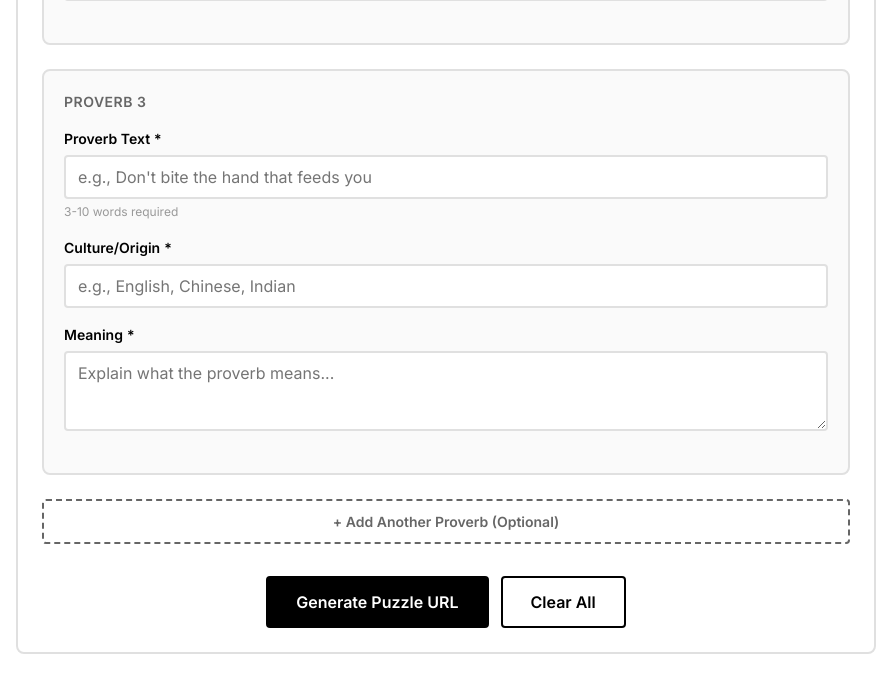
Scenario: PuzzleBuilder › allows removing the fourth proverb
(page scrolled)
Click the button "+ Add Another Proverb (Optional)" at (446, 521), box 42,499 -> 850,544
(page scrolled)
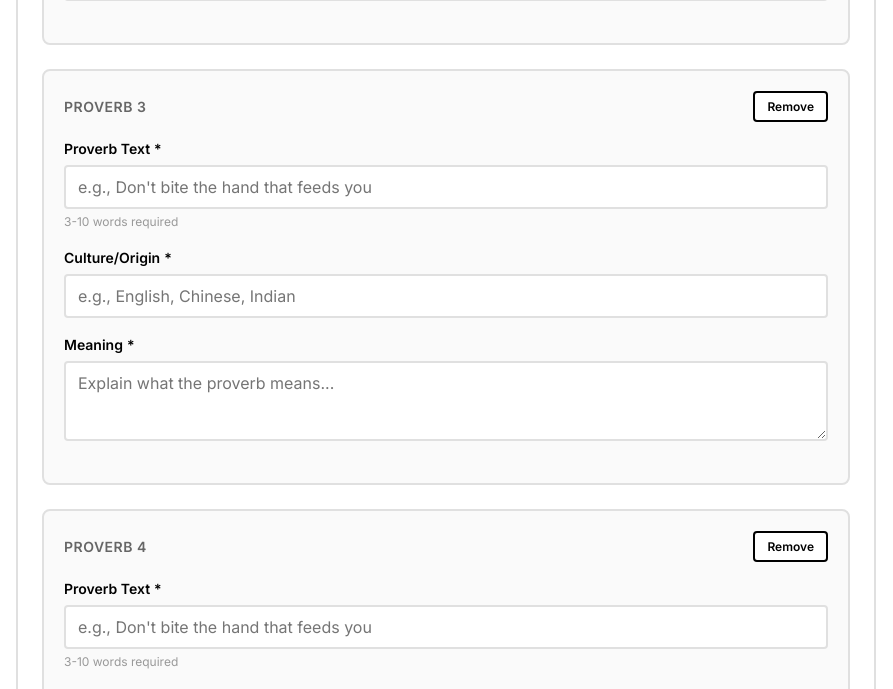
Check: the text "Proverb 4" is shown, box 64,536 -> 147,557
Click the button "Remove" in the row of "Proverb 4" at (791, 546), box 753,531 -> 828,562
(page scrolled)
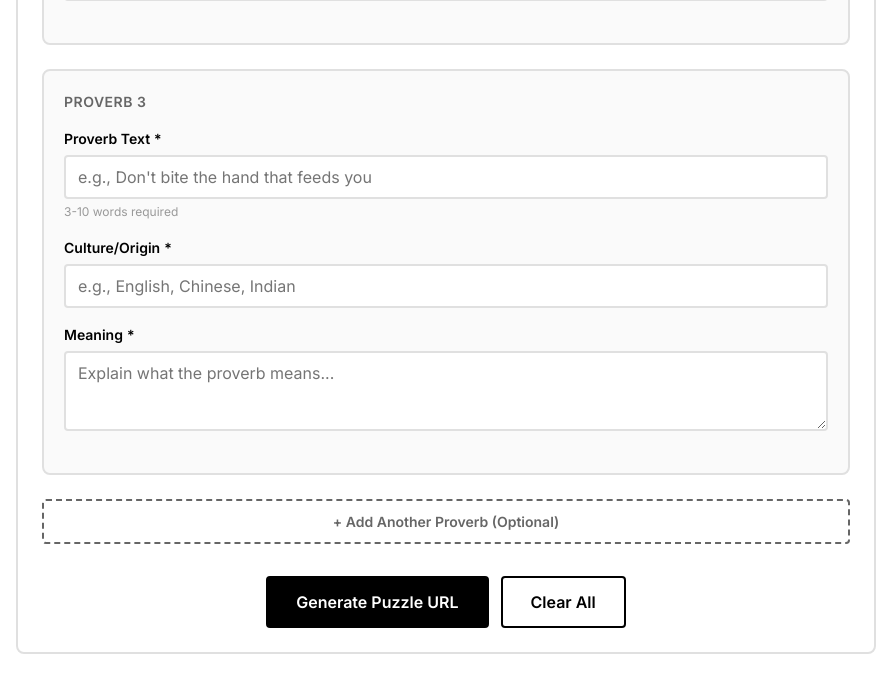
Check: the text "Proverb 4" is gone
Check: the button "+ Add Another Proverb (Optional)" is shown, box 42,499 -> 850,544
